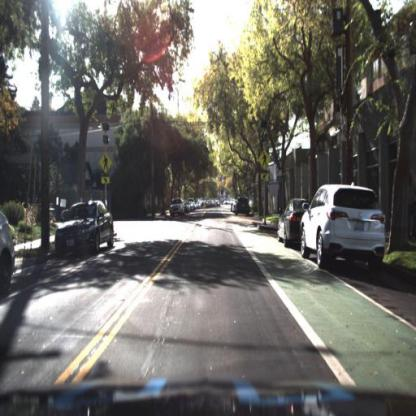car: (301, 182, 389, 271), (51, 194, 116, 261), (276, 193, 313, 251), (278, 194, 312, 250), (1, 203, 17, 304), (233, 194, 253, 218), (168, 196, 186, 220), (234, 196, 251, 216)
